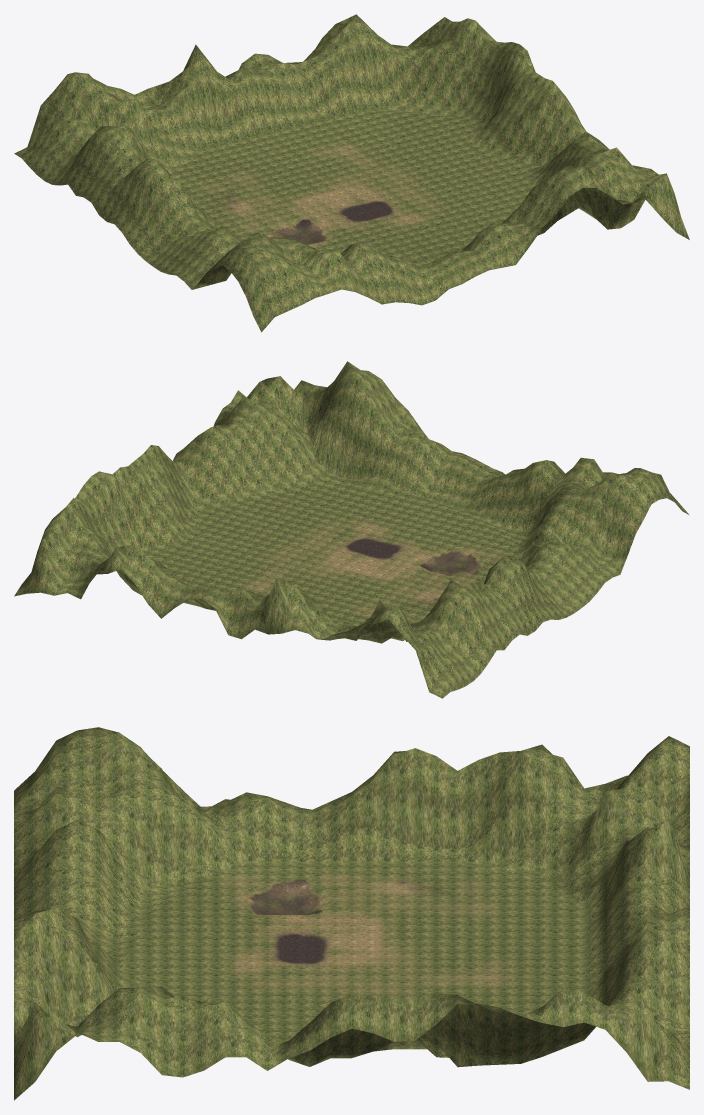
The picture shows the model from 3 angles, top to bottom: view 1: azimuth 30°, elevation 25°; view 2: azimuth 150°, elevation 25°; view 3: azimuth 270°, elevation 25°; orthographic projection. The views are drawn at different scales.
Visible parts, largest first — view 1: Mesh; view 2: Mesh; view 3: Mesh.
Boxes of the visible parts, x1,y1,x2,y2 form: Mesh: (14, 14, 689, 332); Mesh: (14, 361, 688, 698); Mesh: (14, 727, 689, 1100).
Size of the model in its own units: 70 by 14.3 by 70.
Materials: 1 (1 with a texture image).
